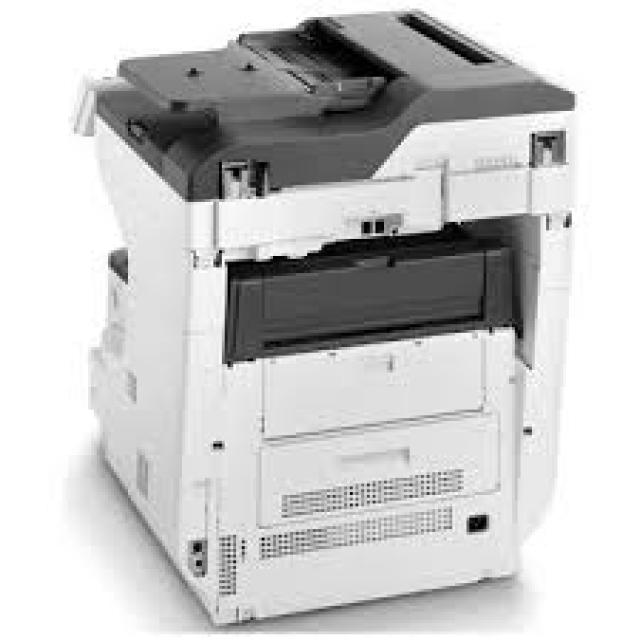printer: (71, 6, 578, 626)
